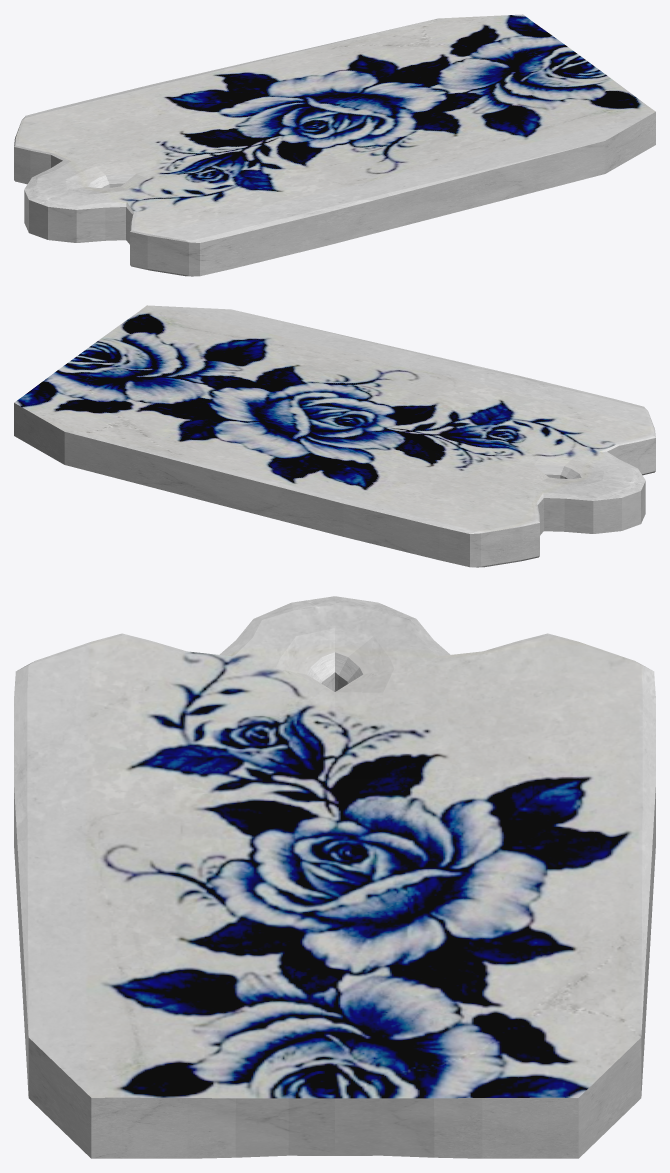
Rendered from cutting board.fbx.
3 views of the same model, one above another, from view 1: azimuth 30°, elevation 25°; view 2: azimuth 150°, elevation 25°; view 3: azimuth 270°, elevation 25° (orthographic). The views are drawn at different scales.
Parts seen in each view (by area): view 1: Cube; view 2: Cube; view 3: Cube.
Part boxes in pixels (box(x1,y1,x2,y2)): Cube: box(14, 14, 655, 276); Cube: box(14, 305, 655, 567); Cube: box(14, 596, 655, 1158).
Size of the model in its own units: 676 by 42.76 by 366.
